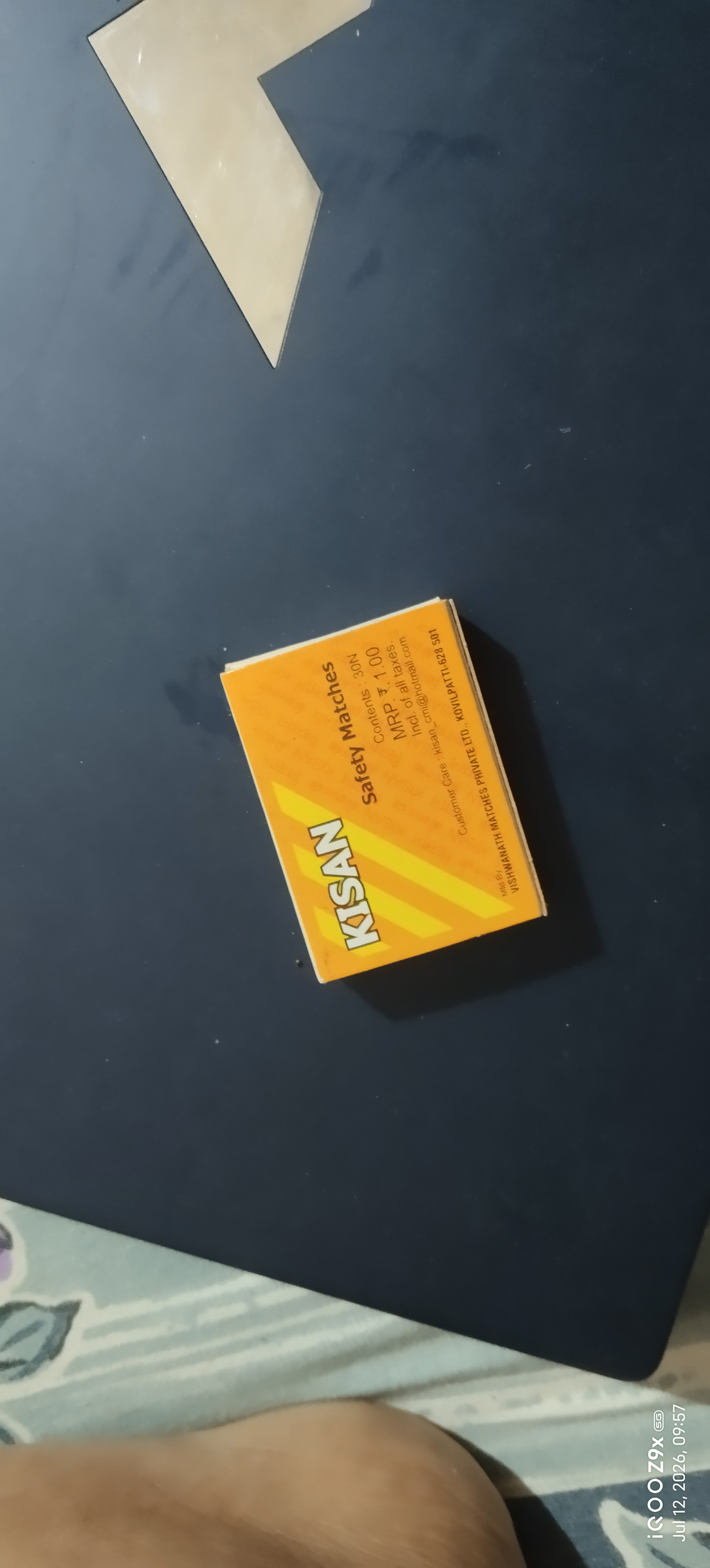matchbox: (171, 571, 588, 1032)
